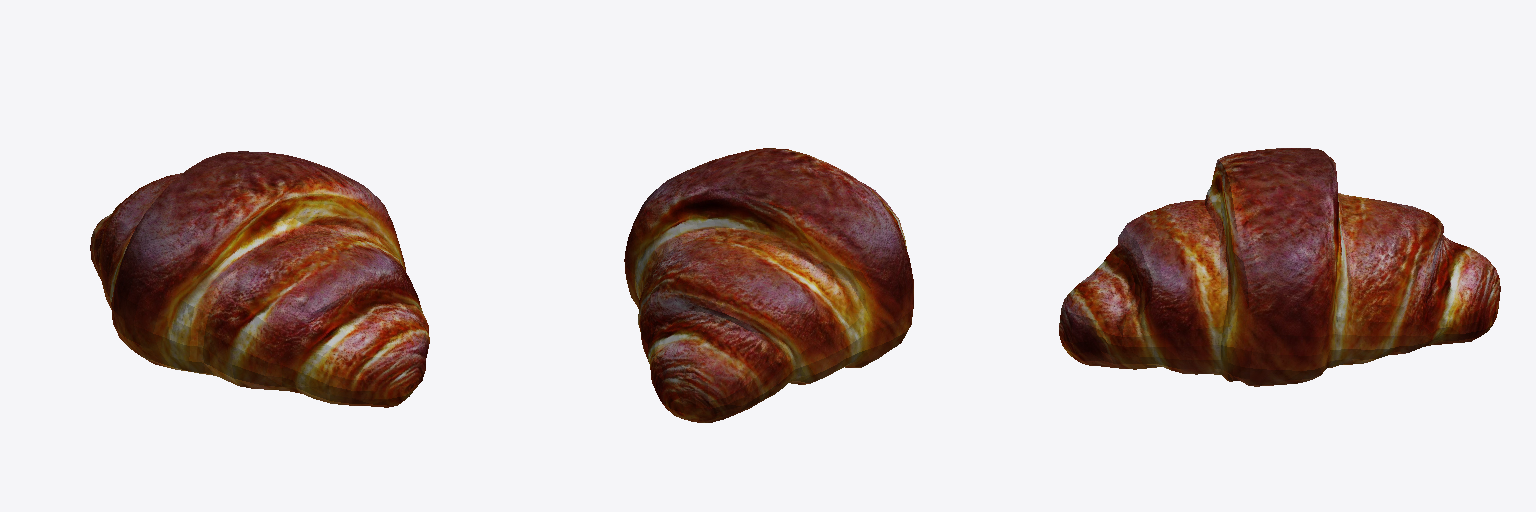
3 renders of one model, left to right at view 1: azimuth 30°, elevation 25°; view 2: azimuth 150°, elevation 25°; view 3: azimuth 270°, elevation 25°, orthographic.
Visible parts, largest first — view 1: mesh; view 2: mesh; view 3: mesh.
Boxes of the visible parts, <box> form: mesh: <box>90,151,429,407</box>; mesh: <box>624,148,913,422</box>; mesh: <box>1059,148,1500,386</box>.
Size of the model in its own units: 0.71 by 0.4579 by 0.9986.
1 materials, 1 textured.